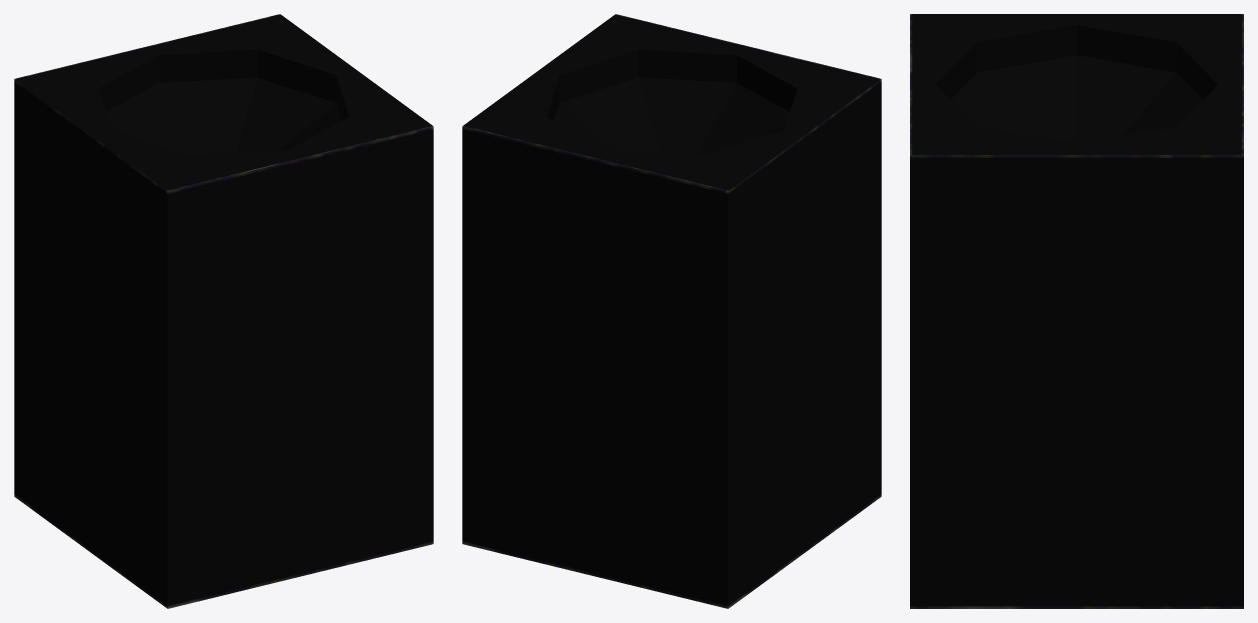
File: wellShrine.obj
3 renders of one model, left to right at view 1: azimuth 30°, elevation 25°; view 2: azimuth 150°, elevation 25°; view 3: azimuth 270°, elevation 25°, orthographic. The views are drawn at different scales.
Visible parts, largest first — view 1: Cylinder.001; view 2: Cylinder.001; view 3: Cylinder.001.
Boxes of the visible parts, left/top/right/bottom form: Cylinder.001: left=14, top=14, right=433, bottom=608; Cylinder.001: left=462, top=14, right=881, bottom=608; Cylinder.001: left=910, top=14, right=1243, bottom=608.
Bounding box in the file's own units: 2 × 3 × 2.
